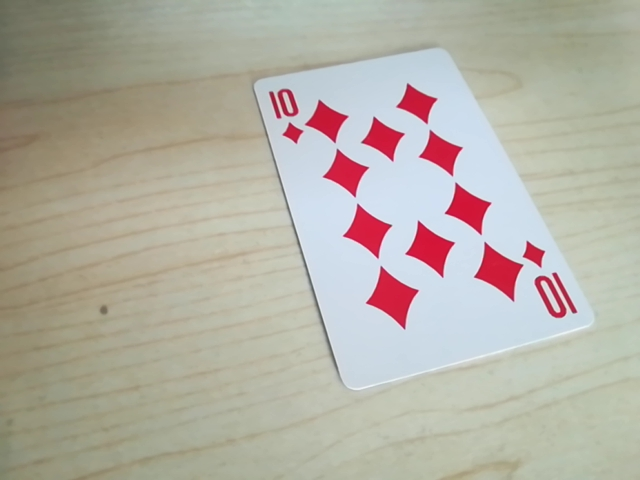fk 10: (529, 250, 577, 325), (260, 84, 308, 141)
